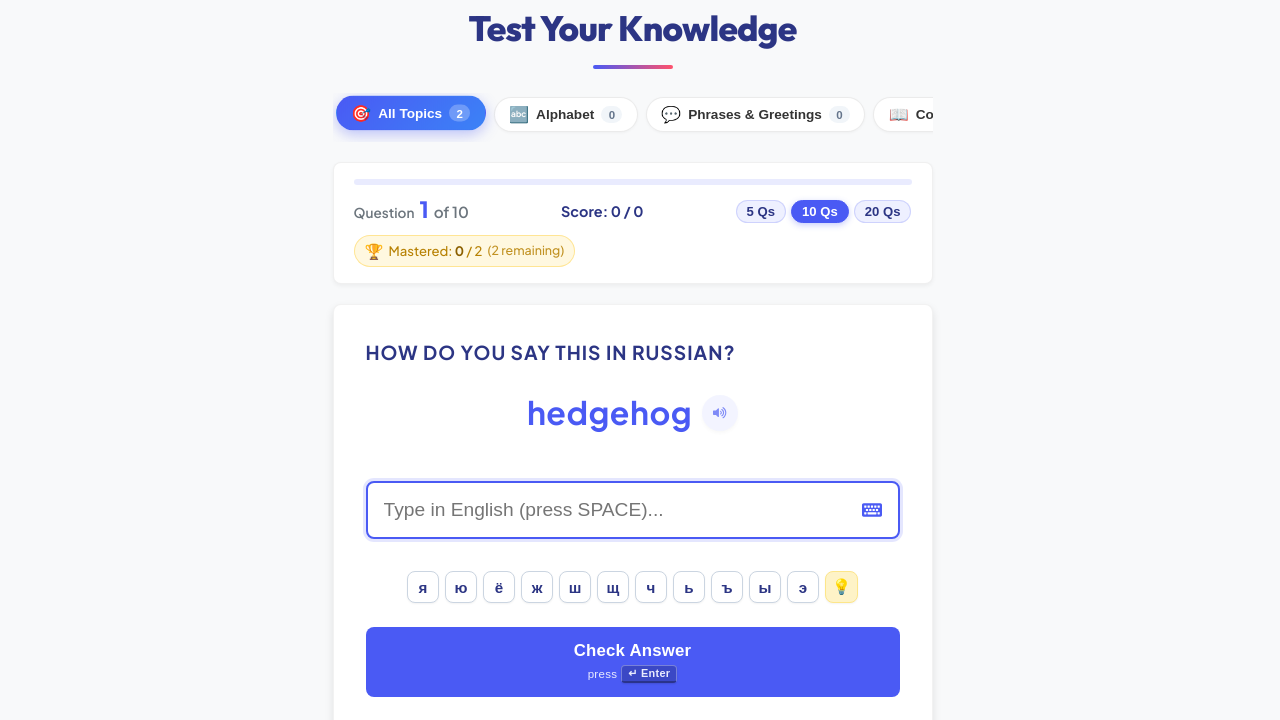
Quiz Component - Session Goals & Mastery Filtering › accepts interchangeable Russian letters ё and е without penalty
Type "еж" into the field at (632, 510), box [366,481,900,539]
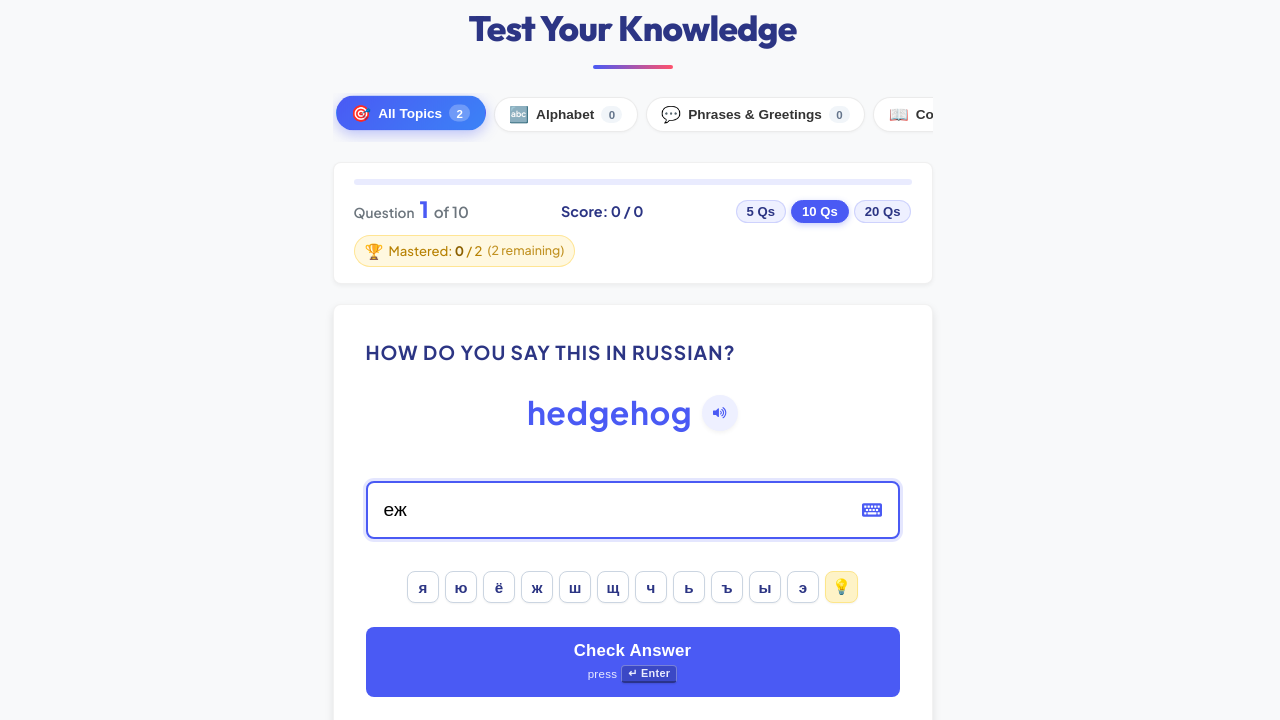
Click the button "Check Answer press ↵ Enter" at (632, 662), box [366,627,900,697]
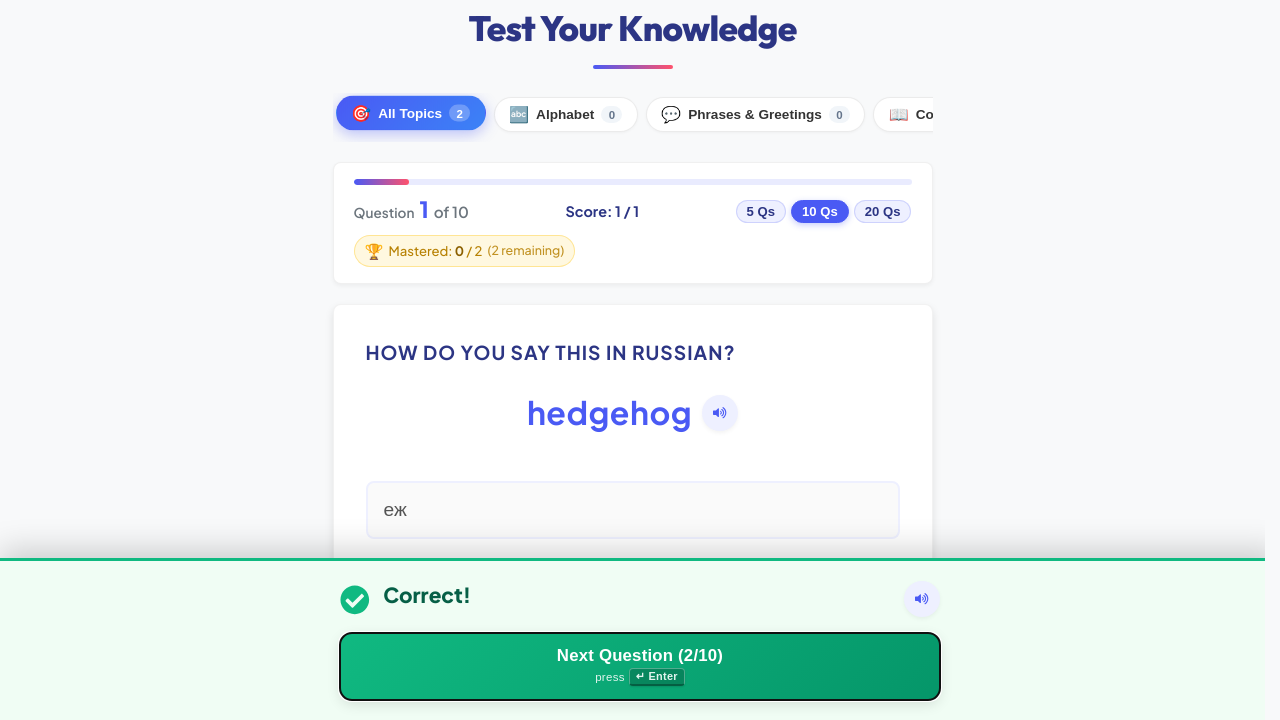
Now the text "Correct!" is shown, box [383,583,471,608]
